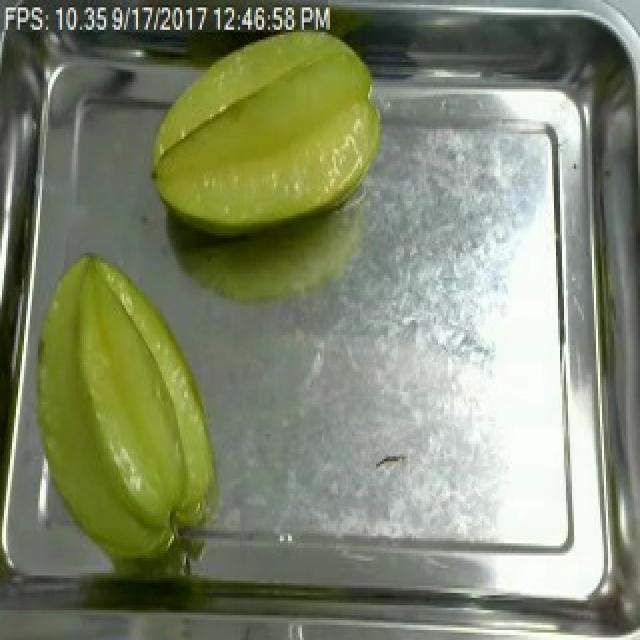fruit: (12, 238, 230, 573), (136, 18, 394, 246)
